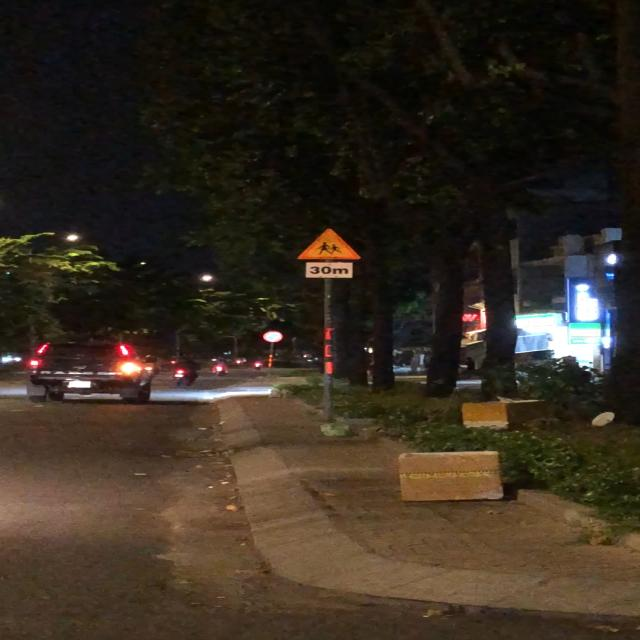Bien bao tre em: (294, 225, 364, 262)
